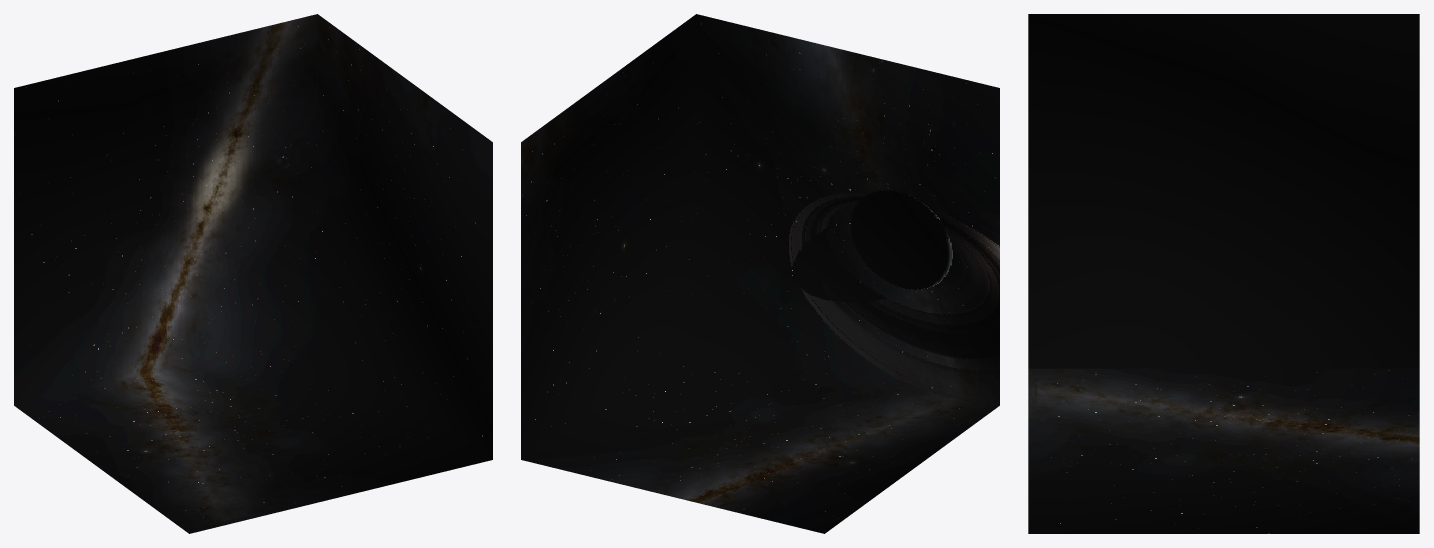
Rendered from skybox.glb.
3 renders of one model, left to right at view 1: azimuth 30°, elevation 25°; view 2: azimuth 150°, elevation 25°; view 3: azimuth 270°, elevation 25°, orthographic. The views are drawn at different scales.
Parts seen in each view (by area): view 1: sky; view 2: sky; view 3: sky.
Boxes of the visible parts, <box> form: sky: <box>14,14,492,533</box>; sky: <box>521,14,999,533</box>; sky: <box>1028,14,1419,533</box>.
Bounding box in the file's own units: 16 × 16 × 16.
Materials: 6 (6 with a texture image).
